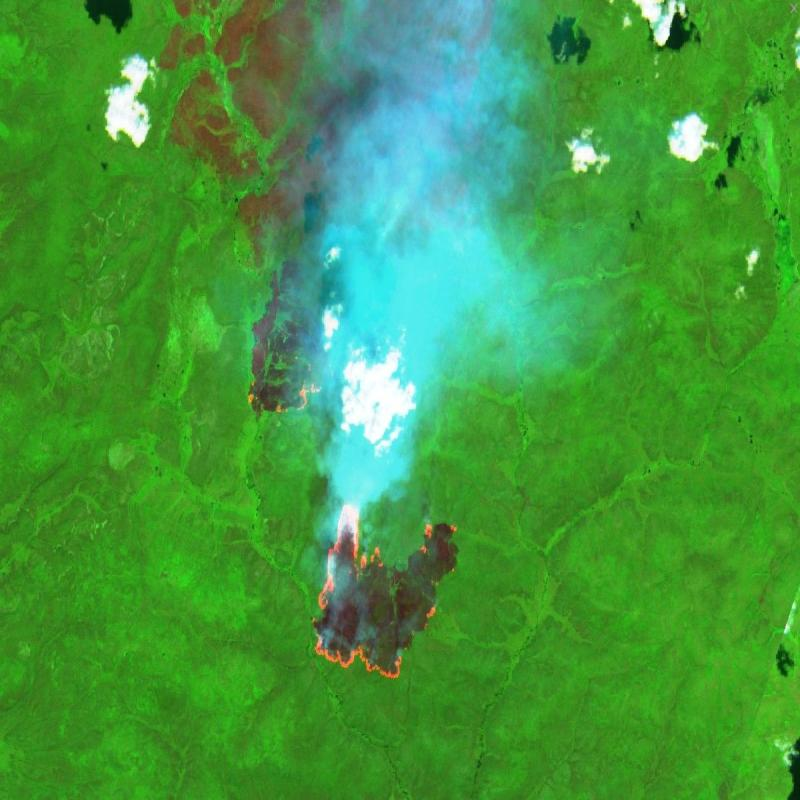fire: (306, 489, 464, 691), (244, 370, 326, 419)
